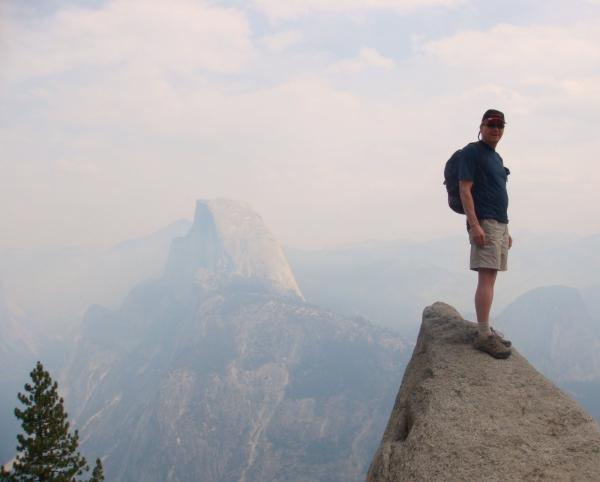person: (442, 105, 516, 361)
